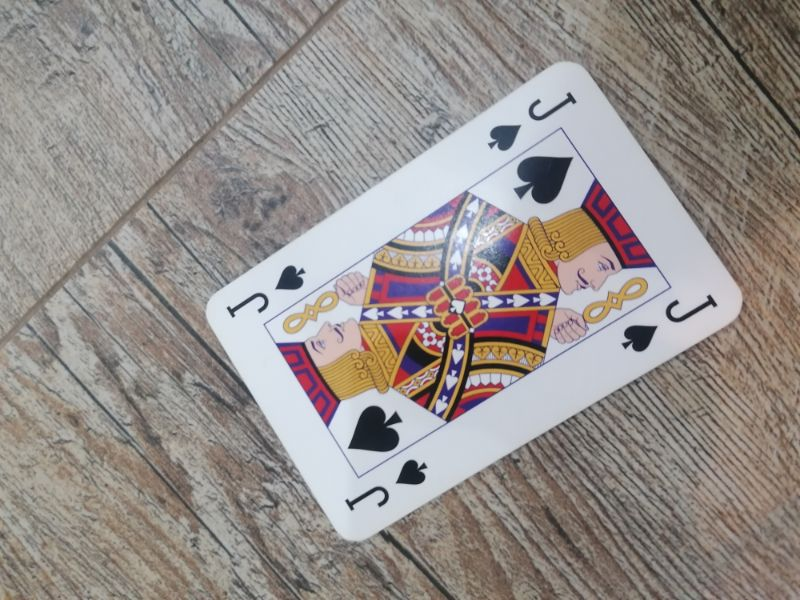Js: (618, 290, 720, 358), (486, 87, 578, 158), (343, 455, 433, 517), (223, 261, 311, 324)
